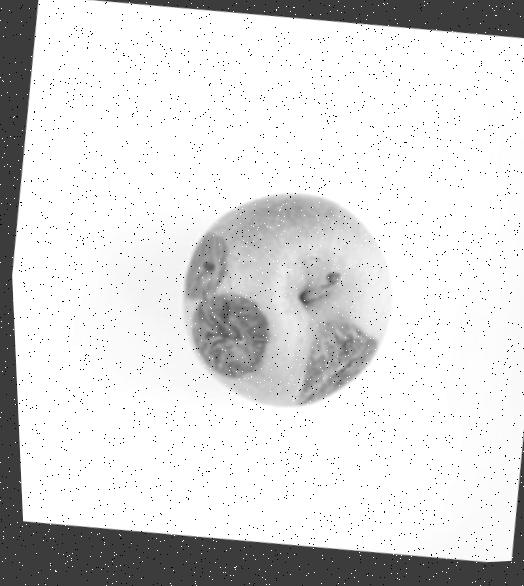ROT: (137, 159, 428, 456)
